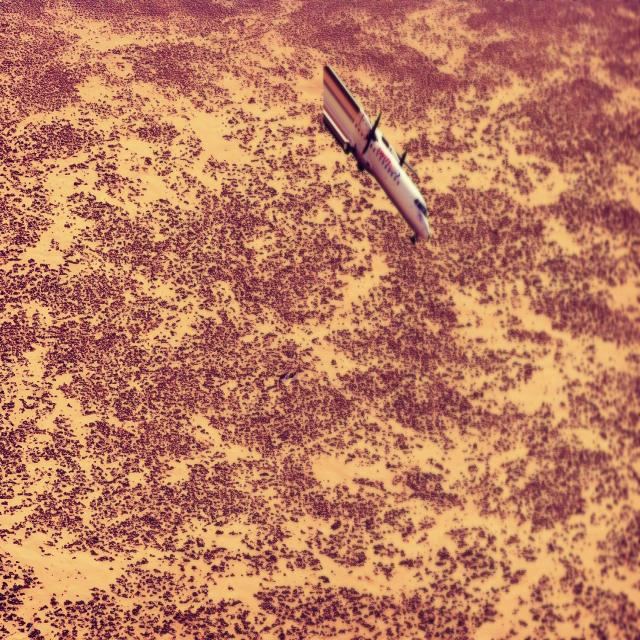airplane: (322, 64, 431, 242)
